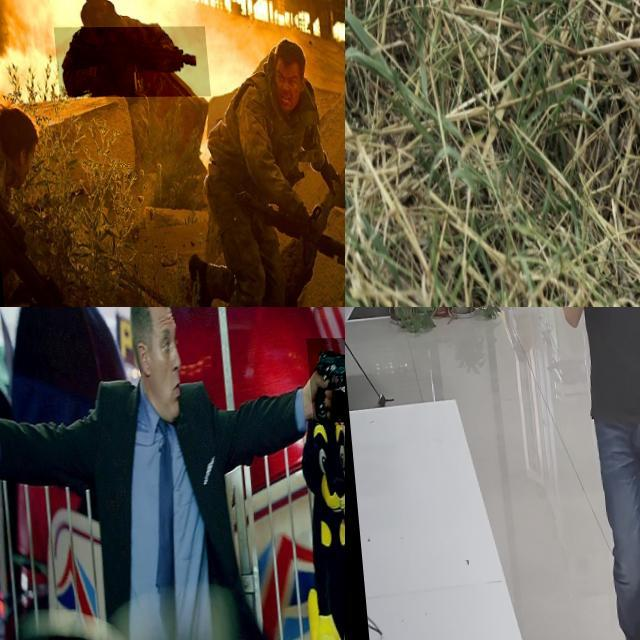gun-knife-thesis - v11 Yolov5 augmented: (50, 27, 206, 97), (345, 0, 400, 102), (303, 338, 345, 426), (555, 307, 591, 360)
